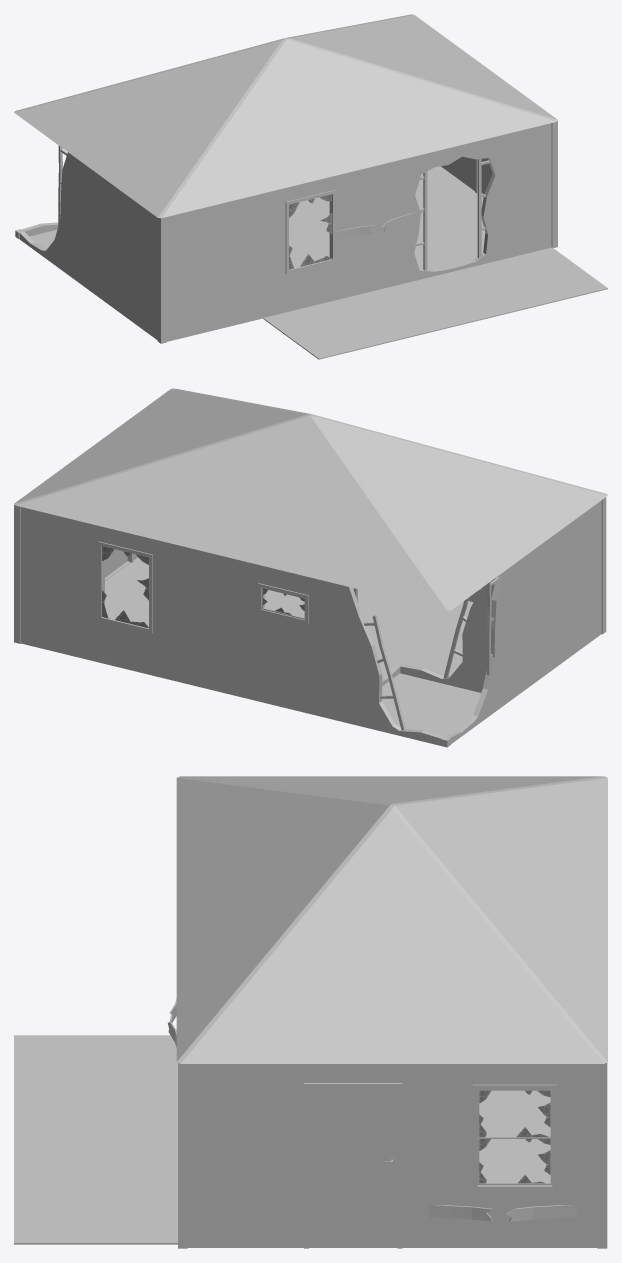
Rendered from Suburbs_house5.fbx.
3 views of the same model, one above another, from view 1: azimuth 30°, elevation 25°; view 2: azimuth 150°, elevation 25°; view 3: azimuth 270°, elevation 25° (orthographic). The views are drawn at different scales.
Visible parts, largest first — view 1: Cube.1298, Cube.016, Plane.543; view 2: Cube.1298, Cube.016, Plane.544; view 3: Cube.016, Cube.1298, Cube.022, Plane.547.
Part boxes in pixels (bbox=[...]): Cube.1298: bbox=[15, 14, 607, 359]; Cube.016: bbox=[14, 14, 557, 218]; Plane.543: bbox=[289, 194, 332, 269]; Cube.1298: bbox=[14, 388, 606, 747]; Cube.016: bbox=[14, 388, 607, 610]; Plane.544: bbox=[102, 546, 148, 628]; Cube.016: bbox=[176, 776, 607, 1063]; Cube.1298: bbox=[14, 998, 607, 1248]; Cube.022: bbox=[309, 1088, 397, 1246]; Plane.547: bbox=[479, 1090, 550, 1137].
Bounding box in the file's own units: 842 × 404 × 725.
